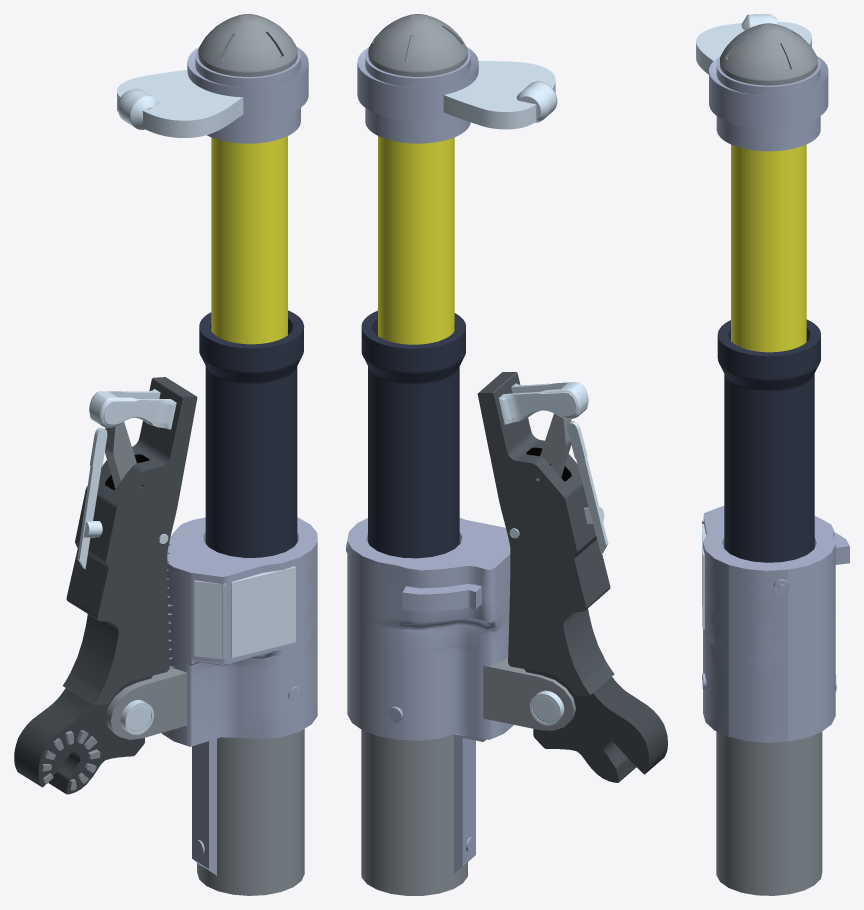
Rendered from anima.fbx.
The picture shows the model from 3 angles, left to right: view 1: azimuth 30°, elevation 25°; view 2: azimuth 150°, elevation 25°; view 3: azimuth 270°, elevation 25°; orthographic projection.
Parts seen in each view (by area): view 1: cuerpo, parte, cylin, inte, basse, borde, svgMesh5, rell2, arriba, svgMesh3, cil, pakan (+6 smaller); view 2: cuerpo, parte, cylin, inte, basse, borde, svgMesh5, arriba, svgMesh3, pakan, cil, palpal (+3 smaller); view 3: parte, cylin, basse, inte, borde, arriba, svgMesh5, pCylinder1.
Part boxes in pixels (<box>): cuerpo: <box>14,377,197,794</box>; parte: <box>161,517,317,746</box>; cylin: <box>199,310,304,557</box>; inte: <box>211,136,287,344</box>; basse: <box>197,729,304,895</box>; borde: <box>187,47,308,143</box>; svgMesh5: <box>117,70,243,137</box>; rell2: <box>231,566,295,657</box>; arriba: <box>198,14,297,76</box>; svgMesh3: <box>105,665,187,739</box>; cil: <box>192,738,216,875</box>; pakan: <box>89,389,176,429</box>; cuerpo: <box>477,372,667,782</box>; parte: <box>347,518,513,740</box>; cylin: <box>361,310,465,558</box>; inte: <box>378,136,454,344</box>; basse: <box>361,730,467,895</box>; borde: <box>357,47,478,143</box>; svgMesh5: <box>443,61,555,129</box>; arriba: <box>368,14,467,76</box>; svgMesh3: <box>483,657,575,730</box>; pakan: <box>498,382,588,424</box>; cil: <box>454,734,486,873</box>; palpal: <box>567,421,608,554</box>; parte: <box>703,505,849,742</box>; cylin: <box>717,319,820,562</box>; basse: <box>716,731,822,895</box>; inte: <box>731,144,806,352</box>; borde: <box>709,56,828,151</box>; arriba: <box>720,23,817,85</box>; svgMesh5: <box>696,21,811,74</box>; pCylinder1: <box>741,14,777,30</box>.
Size of the model in its own units: 7.13 by 19.69 by 3.24.
